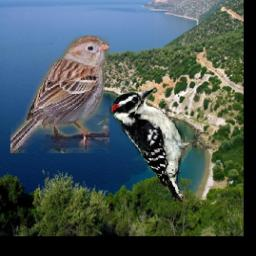Sparrow: (10, 37, 109, 154)
Woodpecker: (110, 87, 214, 202)
